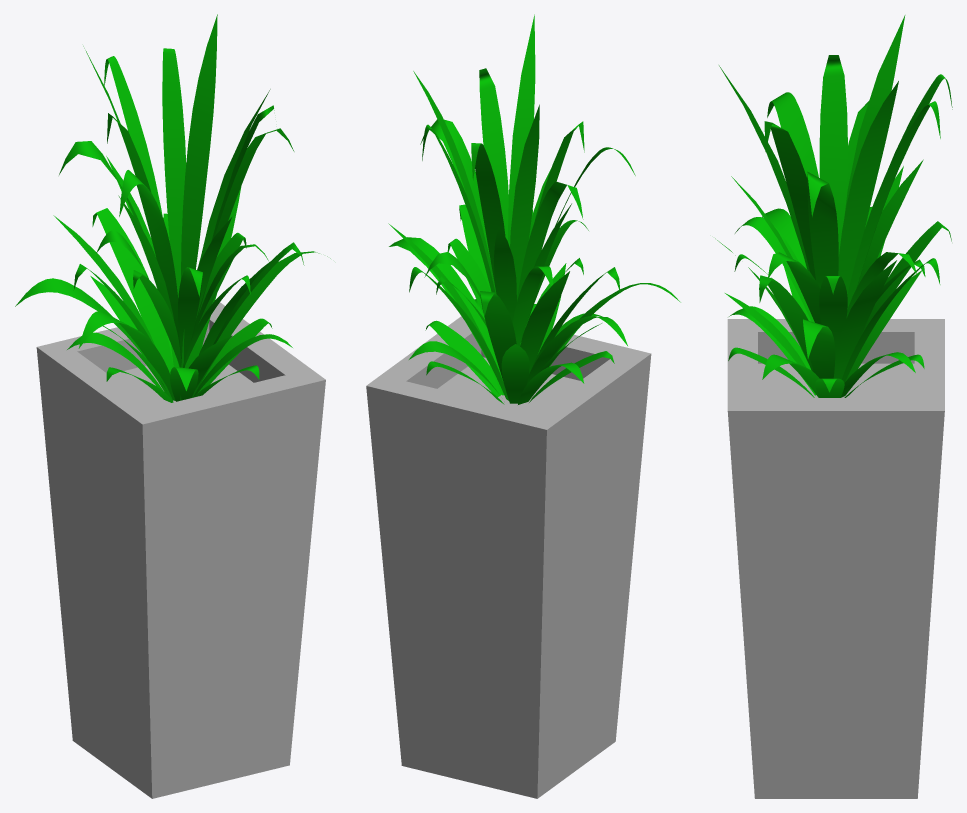
The model's file is plant-01.gltf.
3 renders of one model, left to right at view 1: azimuth 30°, elevation 25°; view 2: azimuth 150°, elevation 25°; view 3: azimuth 270°, elevation 25°, orthographic. The views are drawn at different scales.
Visible parts, largest first — view 1: object_1, object_3, object_8, object_36, object_12, object_9, object_18, object_39, object_33, object_28, object_2, object_21 (+18 smaller); view 2: object_1, object_10, object_4, object_16, object_9, object_33, object_11, object_37, object_36, object_14, object_25, object_2 (+13 smaller); view 3: object_1, object_3, object_13, object_2, object_4, object_8, object_42, object_10, object_12, object_20, object_33, object_14 (+17 smaller).
Part boxes in pixels (x1,y1,x2,y2): object_1: (36, 302, 325, 798); object_3: (181, 14, 217, 279); object_8: (162, 48, 186, 297); object_36: (92, 208, 173, 373); object_12: (119, 170, 181, 362); object_9: (104, 56, 162, 216); object_18: (178, 267, 202, 367); object_39: (78, 311, 175, 400); object_33: (192, 251, 330, 397); object_28: (15, 278, 147, 359); object_2: (183, 128, 294, 367); object_21: (133, 270, 181, 367); object_1: (366, 316, 651, 798); object_10: (510, 104, 539, 298); object_4: (479, 68, 508, 240); object_16: (508, 14, 535, 247); object_9: (471, 143, 505, 289); object_33: (389, 237, 503, 381); object_11: (517, 181, 583, 301); object_37: (520, 271, 569, 373); object_36: (480, 291, 516, 385); object_14: (493, 226, 516, 323); object_25: (425, 320, 501, 397); object_2: (420, 119, 490, 260); object_1: (727, 319, 944, 798); object_3: (838, 81, 898, 295); object_13: (819, 55, 847, 256); object_2: (807, 171, 838, 288); object_4: (764, 121, 815, 280); object_8: (847, 101, 940, 309); object_42: (833, 260, 896, 379); object_10: (844, 15, 905, 216); object_12: (767, 92, 818, 177); object_20: (819, 276, 847, 356); object_33: (803, 319, 835, 378); object_14: (857, 159, 923, 286).
Size of the model in its own units: 62.47 by 146 by 44.66.
